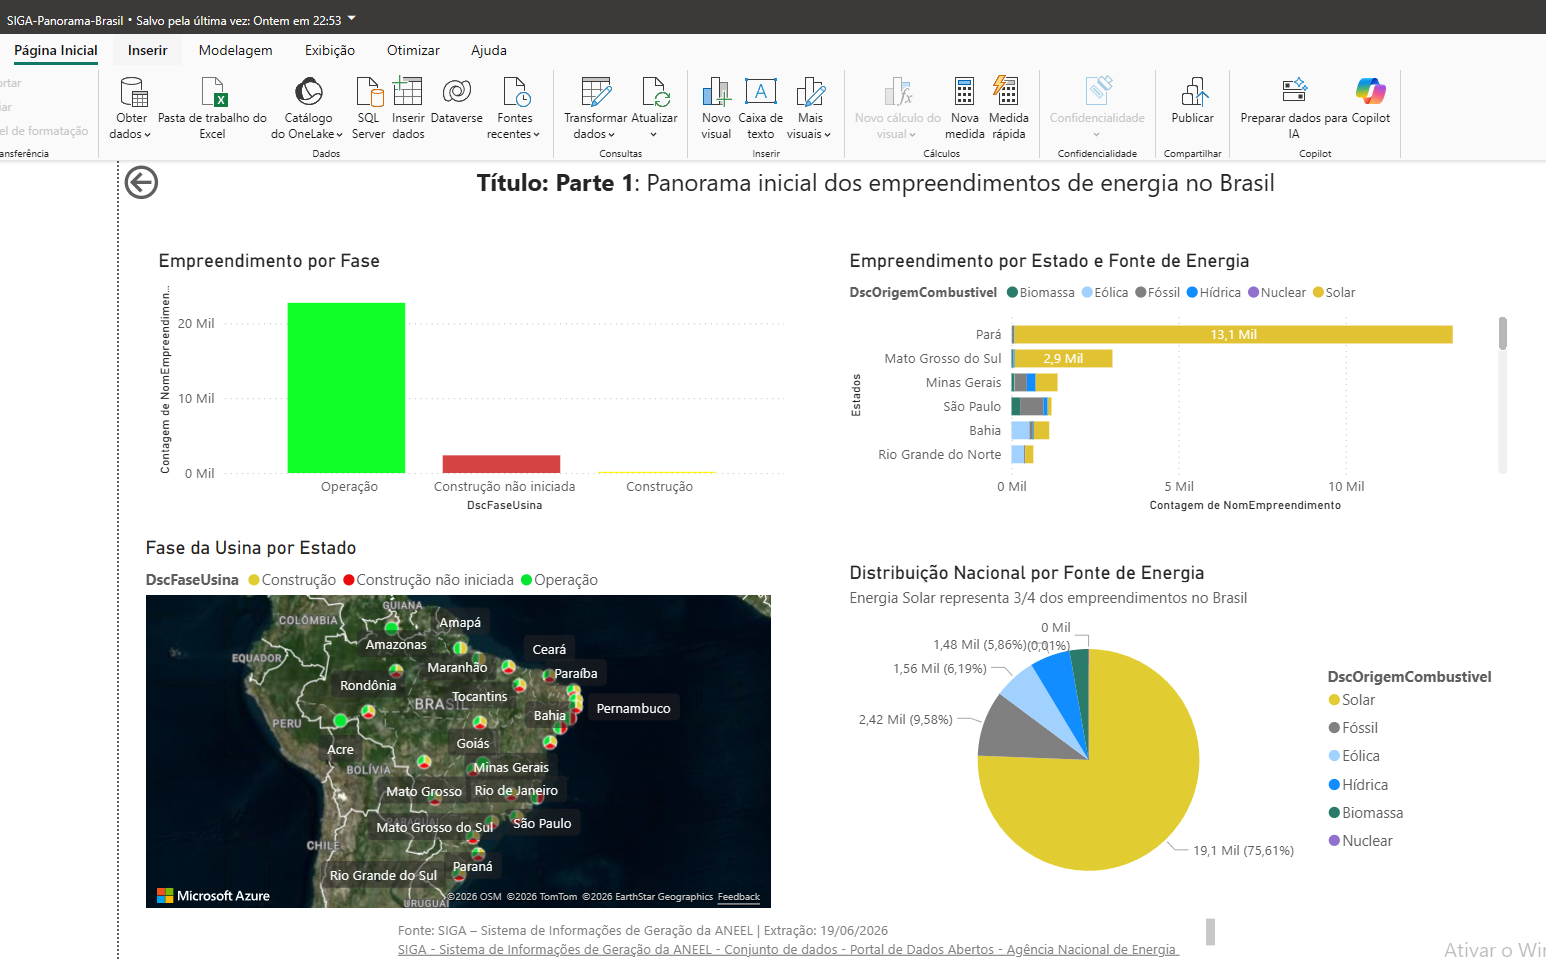

The page's visual inventory and layout, read from the dashboard file:
{"tool":"powerbi","page":{"name":"Página 1","canvas":[1280,720],"ordinal":0},"visuals":[{"type":"barChart","title":"Empreendimento por Estado e Fonte de Energia","fields":{"Y":["CountNonNull(siga-empreendimentos-geracao csv-rev1.NomEmpreendimento)"],"Category":["siga-empreendimentos-geracao csv-rev1.Estados"],"Series":["siga-empreendimentos-geracao csv-rev1.DscOrigemCombustivel"]},"box":[649.5,79.4,599,239.6],"z":1},{"type":"columnChart","title":"Empreendimento por Fase","fields":{"Category":["siga-empreendimentos-geracao csv-rev1.DscFaseUsina"],"Y":["CountNonNull(siga-empreendimentos-geracao csv-rev1.NomEmpreendimento)"]},"box":[30.3,79.4,570,239.6],"z":3},{"type":"pieChart","title":"Distribuição Nacional por Fonte de Energia","fields":{"Category":["siga-empreendimentos-geracao csv-rev1.DscOrigemCombustivel"],"Y":["CountNonNull(siga-empreendimentos-geracao csv-rev1.NomEmpreendimento)"]},"box":[649.5,359.4,599,315.3],"z":5},{"type":"azureMap","title":"Fase da Usina por Estado","fields":{"Category":["siga-empreendimentos-geracao csv-rev1.Estados"],"Series":["siga-empreendimentos-geracao csv-rev1.DscFaseUsina"]},"box":[18.9,336.7,570,338],"z":6},{"type":"actionButton","box":[0,0,100,40],"z":8},{"type":"textbox","box":[315.3,0,740.3,40.4],"z":9},{"type":"textbox","box":[244.7,674.7,741.5,45.4],"z":10}]}

Visuals, with their boxes on the page's 1280x720 design canvas (x1, y1, x2, y2). These are canvas units, not pixel positions in the 1546x961 screenshot, which may show the page scaled, cropped or inside an application window:
"Empreendimento por Estado e Fonte de Energia" barChart: select_region(650, 79, 1248, 319)
"Empreendimento por Fase" columnChart: select_region(30, 79, 600, 319)
"Distribuição Nacional por Fonte de Energia" pieChart: select_region(650, 359, 1248, 675)
"Fase da Usina por Estado" azureMap: select_region(19, 337, 589, 675)
actionButton: select_region(0, 0, 100, 40)
textbox: select_region(315, 0, 1056, 40)
textbox: select_region(245, 675, 986, 720)
